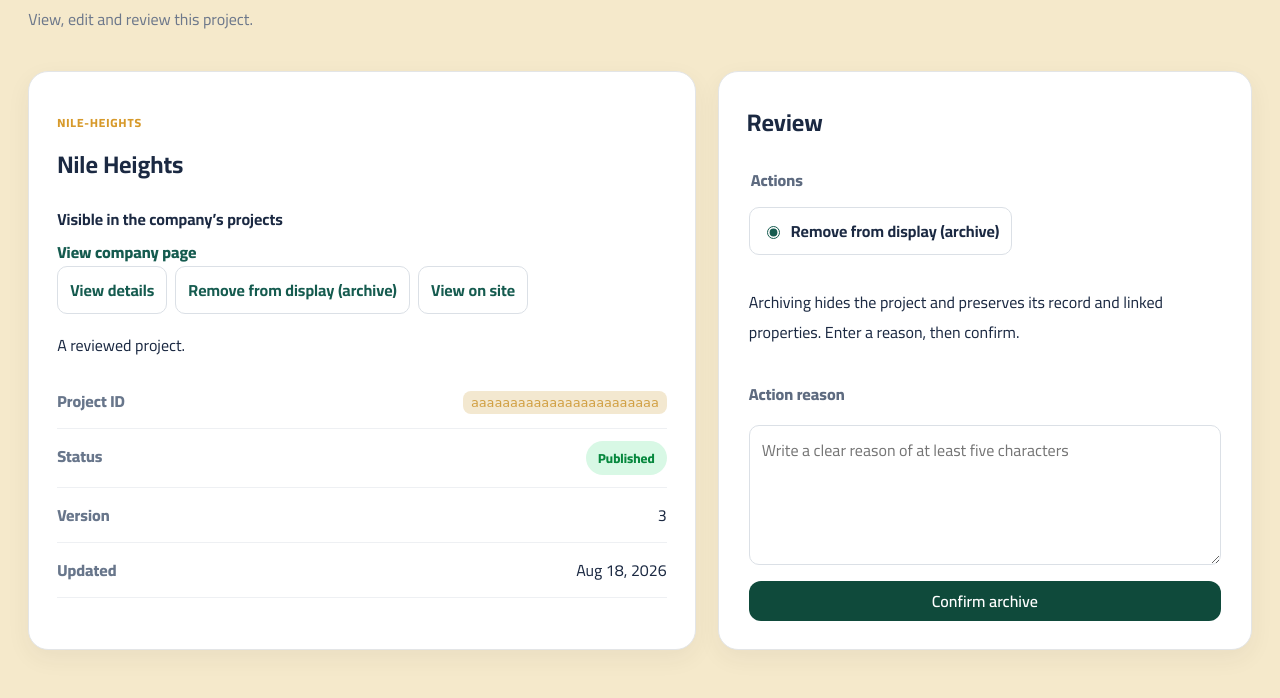
Admin project management contracts and views › confirms versioned archive without offering project creation for en
(page scrolled)
Expected: the radio button labelled "Remove from display (archive)" is checked, [767, 226, 780, 239]
Click the button "Confirm archive" at (985, 601), box [749, 581, 1221, 621]
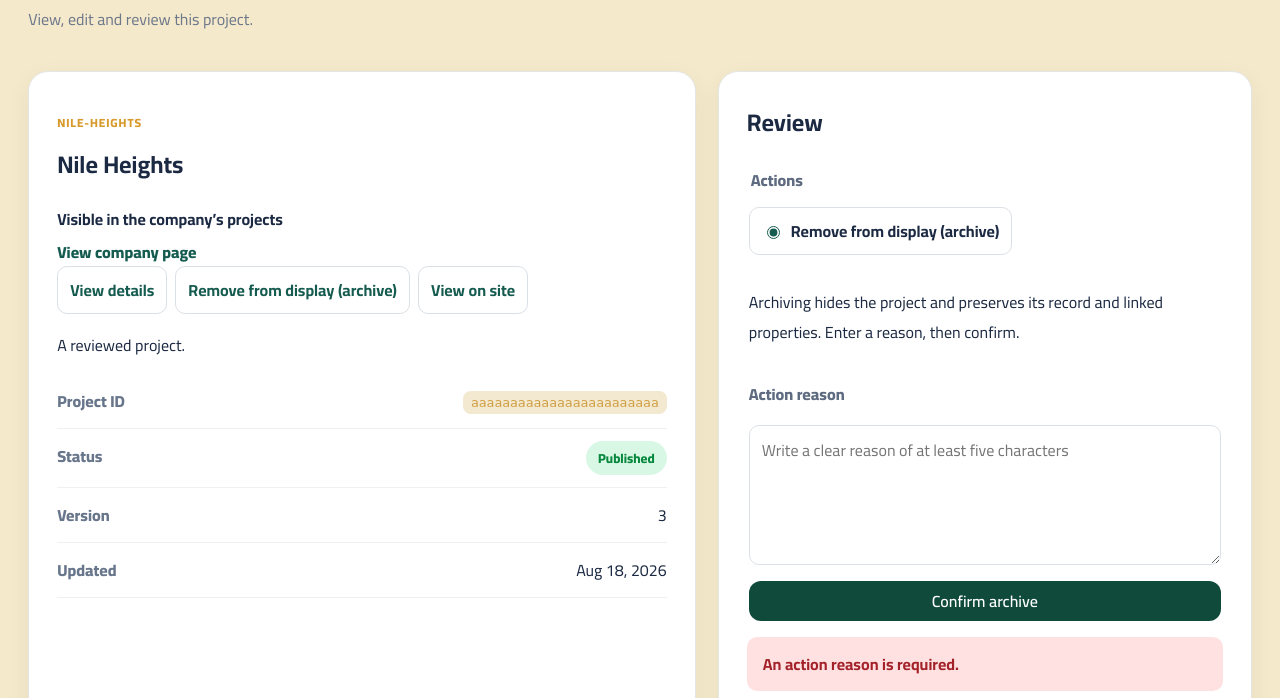
Expected: the message reads "An action reason is required.", [763, 649, 959, 679]
Type "Remove displayed project" into the text box labelled "Action reason" at (985, 495), box [749, 425, 1221, 565]
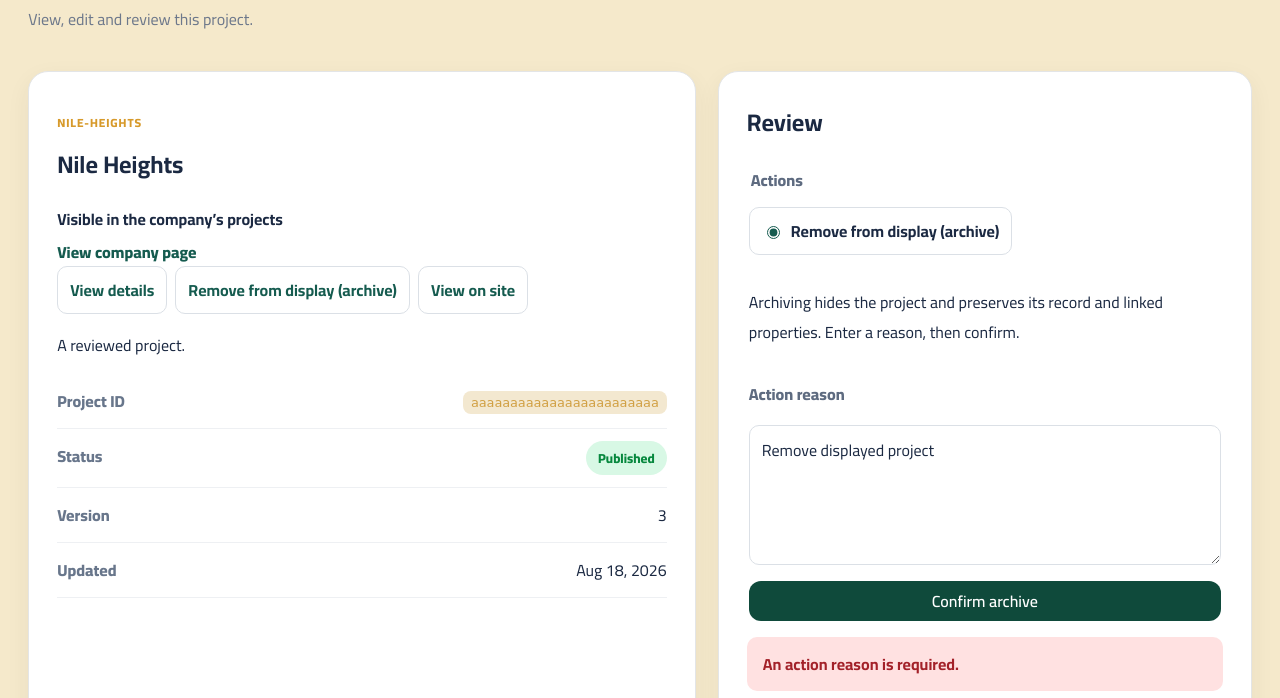
Click the button "Confirm archive" at (985, 601), box [749, 581, 1221, 621]
(page scrolled)
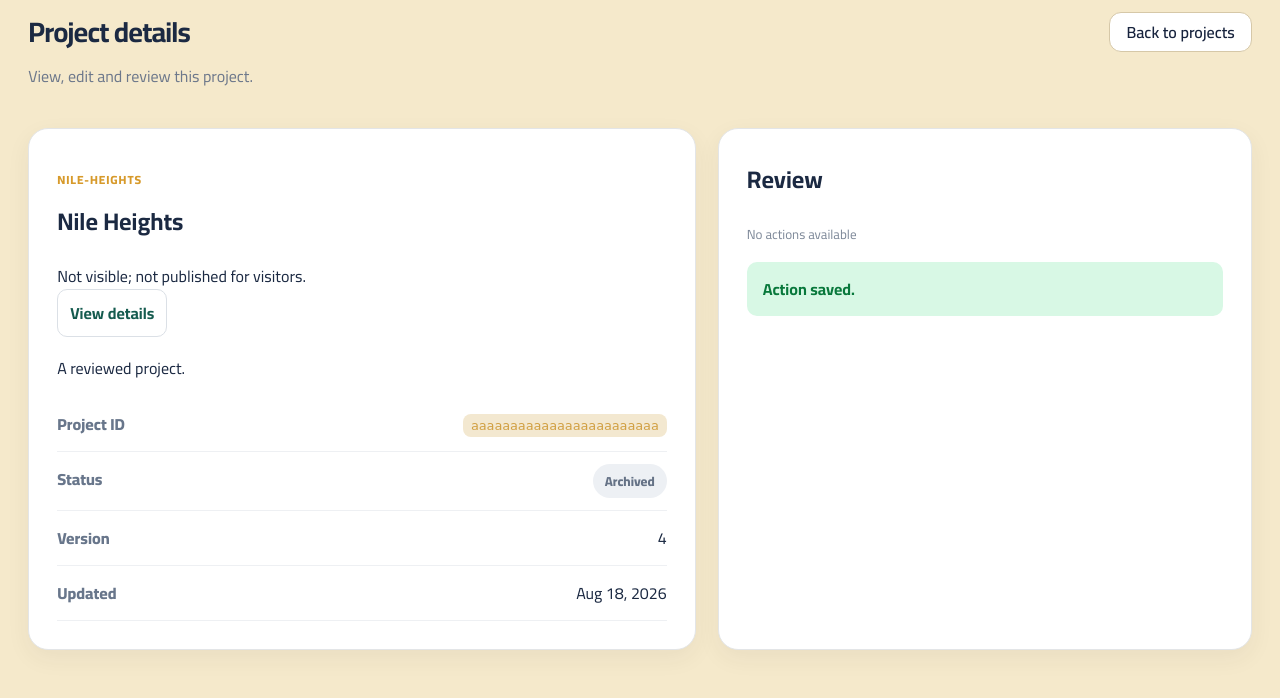
Expected: the radio button is gone
